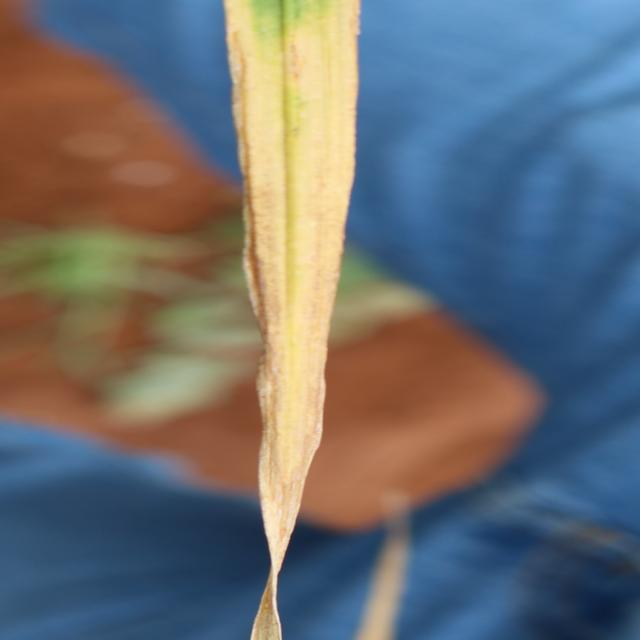Septoria: (223, 1, 363, 637)
